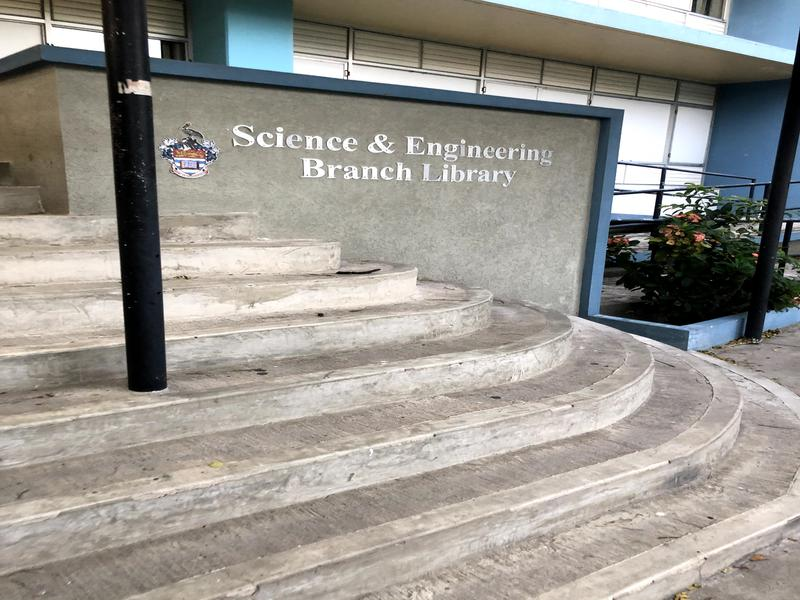18.0053644_-76.7493880_librarysign: (216, 106, 561, 233)
